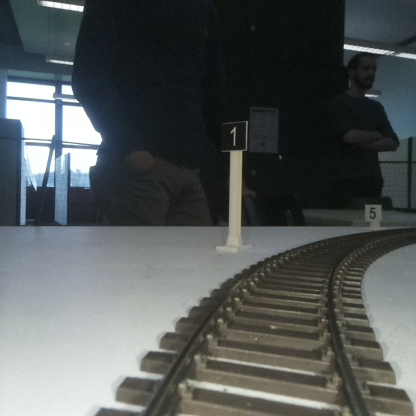black-info-1: (221, 122, 245, 250)
white-stop-5: (365, 203, 381, 229)
